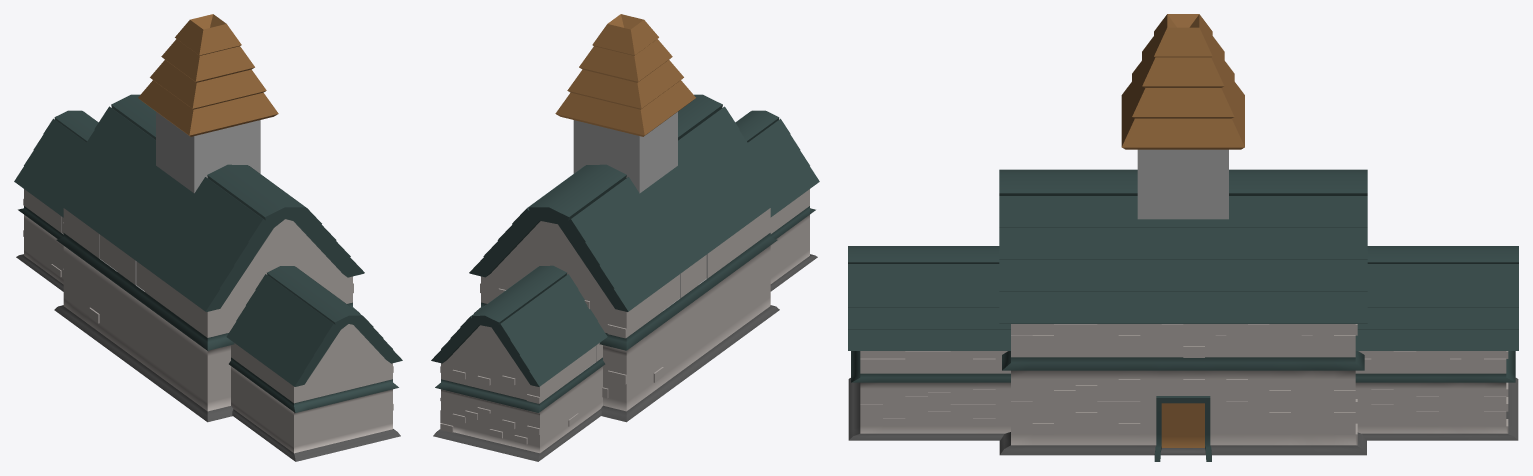
The model's file is Town Hall.fbx.
The picture shows the model from 3 angles, left to right: view 1: azimuth 30°, elevation 25°; view 2: azimuth 150°, elevation 25°; view 3: azimuth 270°, elevation 25°; orthographic projection. The views are drawn at different scales.
Visible parts, largest first — view 1: pCube2, pCube1, pasted__pCube1, pasted__pCube2, pCube4, pCube3, pasted__pasted__pCube2, pasted__pasted__pCube1; view 2: pCube2, pCube1, pasted__pasted__pCube1, pasted__pasted__pCube2, pCube4, pCube3, pasted__pCube2, pasted__pCube1; view 3: pCube2, pCube1, pasted__pasted__pCube2, pasted__pCube2, pasted__pasted__pCube1, pasted__pCube1, pCube4, pCube3.
Boxes of the visible parts, left/top/right/bottom form: pCube2: left=52, top=94, right=364, bottom=311; pCube1: left=54, top=208, right=360, bottom=422; pasted__pCube1: left=229, top=343, right=400, bottom=461; pasted__pCube2: left=226, top=266, right=402, bottom=386; pCube4: left=138, top=14, right=278, bottom=136; pCube3: left=156, top=112, right=260, bottom=193; pasted__pasted__pCube2: left=14, top=110, right=98, bottom=217; pasted__pasted__pCube1: left=16, top=189, right=63, bottom=291; pCube2: left=469, top=94, right=781, bottom=311; pCube1: left=474, top=208, right=779, bottom=422; pasted__pasted__pCube1: left=433, top=343, right=605, bottom=461; pasted__pasted__pCube2: left=431, top=265, right=607, bottom=386; pCube4: left=555, top=14, right=695, bottom=136; pCube3: left=573, top=112, right=677, bottom=193; pasted__pCube2: left=735, top=110, right=819, bottom=217; pasted__pCube1: left=770, top=189, right=817, bottom=291; pCube2: left=999, top=169, right=1367, bottom=323; pCube1: left=999, top=324, right=1366, bottom=461; pasted__pasted__pCube2: left=1355, top=246, right=1518, bottom=350; pasted__pCube2: left=848, top=246, right=1010, bottom=350; pasted__pasted__pCube1: left=1355, top=351, right=1518, bottom=440; pasted__pCube1: left=848, top=351, right=1010, bottom=440; pCube4: left=1121, top=14, right=1244, bottom=149; pCube3: left=1137, top=149, right=1228, bottom=219.
Bounding box in the file's own units: 1.11 × 2.16 × 3.34.
